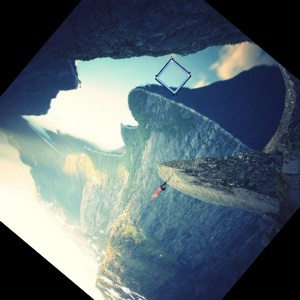square: (152, 56, 194, 97)
